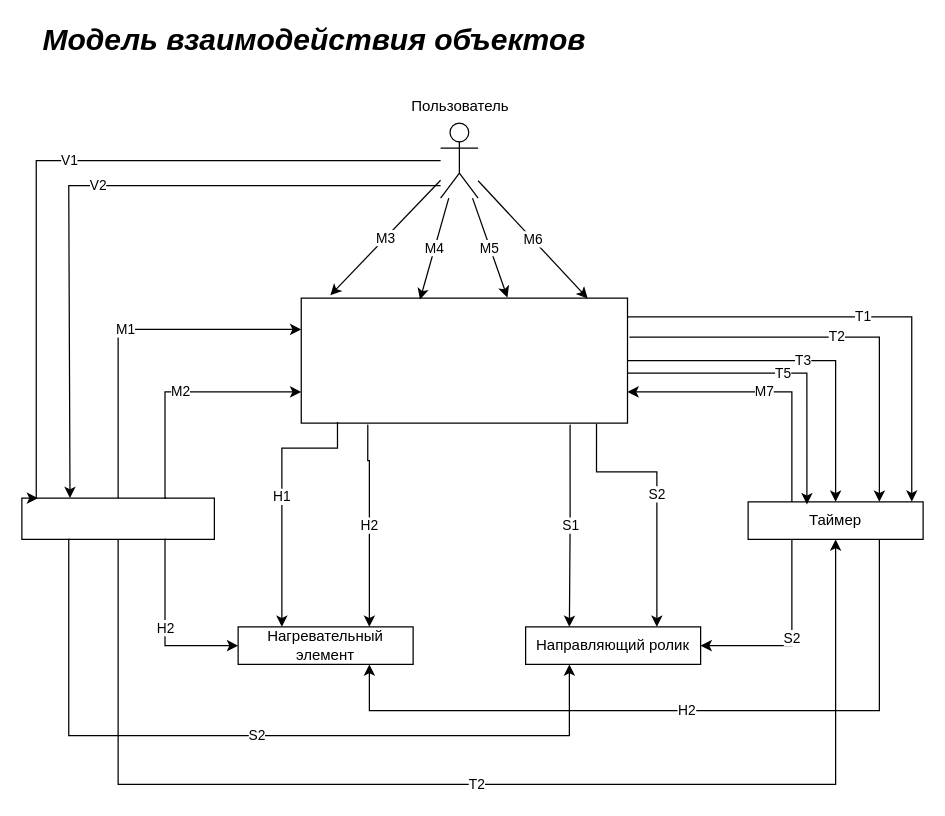
Some shapes in this 945 by 816 pixel diagram are drawn without their labels. Each missing label, with the box of its shape:
Микроволновая печь: (300, 297, 628, 423)
Электровилка: (21, 497, 214, 539)
